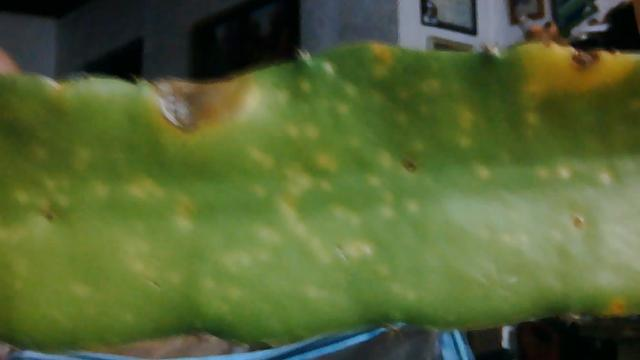stemcanker: (1, 43, 640, 355)
